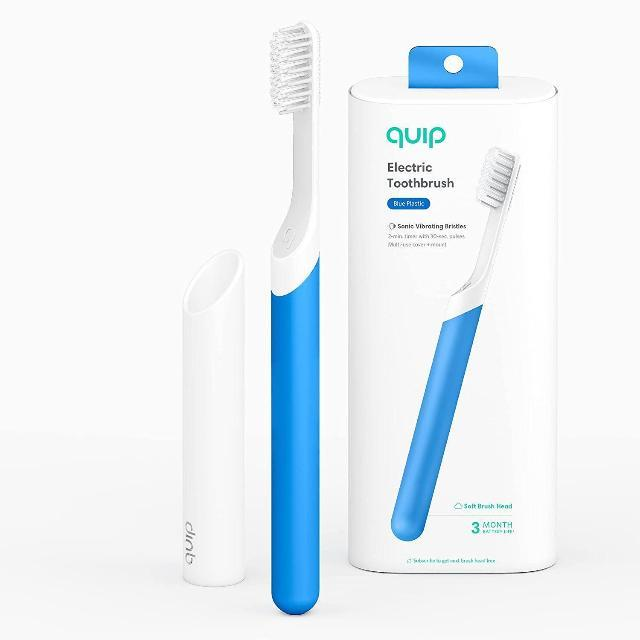toothbrush: (244, 14, 346, 624)
